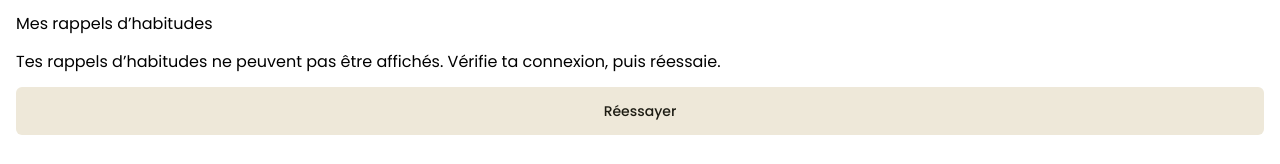
Test case: un échec de lecture (sans réseau) le dit et permet de réessayer, sans parler d’enregistrement
Expected: the text "Tes rappels d’habitudes ne peuvent pas être affichés. Vérifie ta connexion, puis réessaie." is shown, [16, 50, 721, 73]
Click the button "Réessayer" at (640, 111), box [16, 87, 1264, 135]
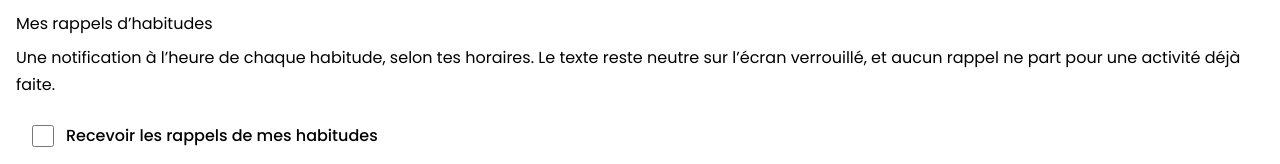
Now the text "Tes rappels d’habitudes ne peuvent pas être affichés. Vérifie ta connexion, puis réessaie." is gone
